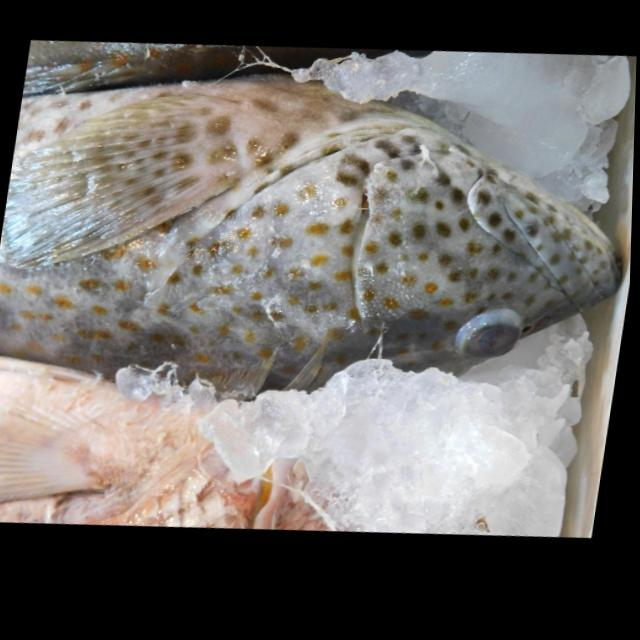Groupers: (0, 8, 638, 472)
